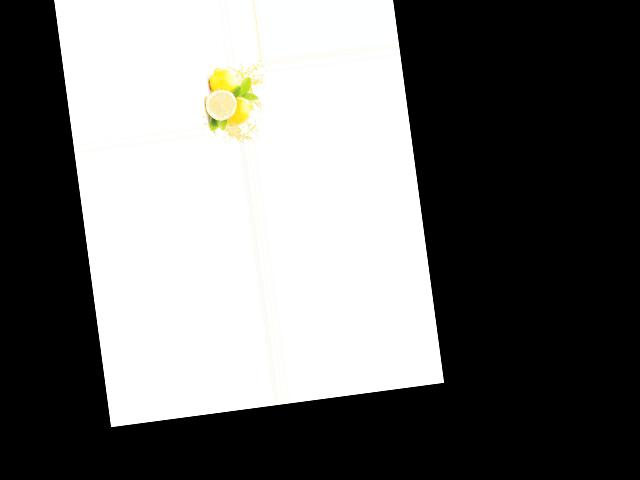lemon: (206, 67, 242, 100)
